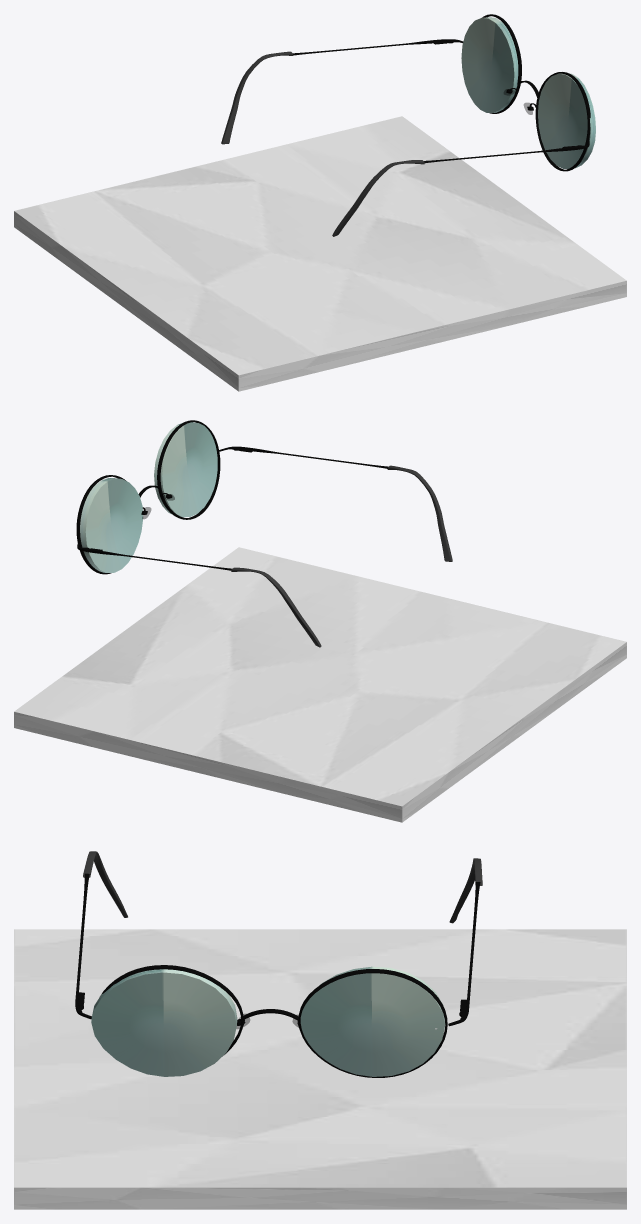
The model's file is lentes.DAE.
3 views of the same model, one above another, from view 1: azimuth 30°, elevation 25°; view 2: azimuth 150°, elevation 25°; view 3: azimuth 270°, elevation 25° (orthographic). The views are drawn at different scales.
Parts seen in each view (by area): view 1: Box001, Cylinder02, Cylinder003, arch49_062, arch49_060, Loft01; view 2: Box001, Cylinder02, Cylinder003, arch49_062, arch49_060, Loft01; view 3: Box001, Cylinder003, Cylinder02, arch49_060, Loft04, arch49_062, Loft01.
Boxes of the visible parts, x1,y1,x2,y2 form: Box001: [14, 116, 626, 391]; Cylinder02: [461, 17, 518, 112]; Cylinder003: [538, 73, 595, 168]; arch49_062: [221, 51, 424, 236]; arch49_060: [289, 39, 589, 163]; Loft01: [535, 72, 590, 171]; Box001: [14, 547, 626, 822]; Cylinder02: [80, 478, 143, 572]; Cylinder003: [154, 422, 217, 517]; arch49_062: [231, 465, 452, 647]; arch49_060: [77, 446, 387, 570]; Loft01: [157, 420, 220, 519]; Box001: [14, 929, 626, 1209]; Cylinder003: [91, 969, 237, 1076]; Cylinder02: [300, 966, 445, 1076]; arch49_060: [75, 873, 480, 1028]; Loft04: [298, 969, 447, 1077]; arch49_062: [83, 851, 482, 923]; Loft01: [100, 965, 243, 1056].
Bounding box in the file's own units: 141 × 138 × 60.8.
Materials: 6 (2 with a texture image).
